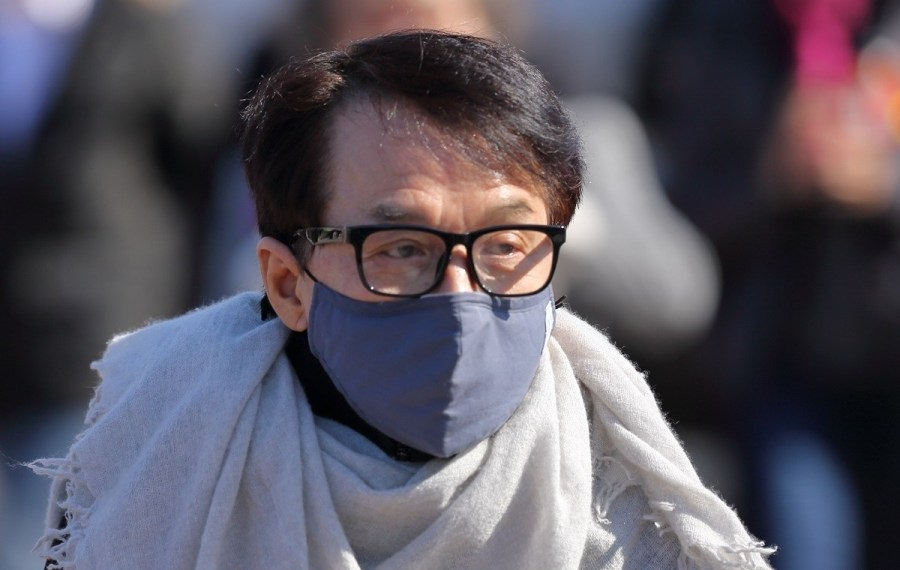face_mask: (309, 125, 554, 453)
